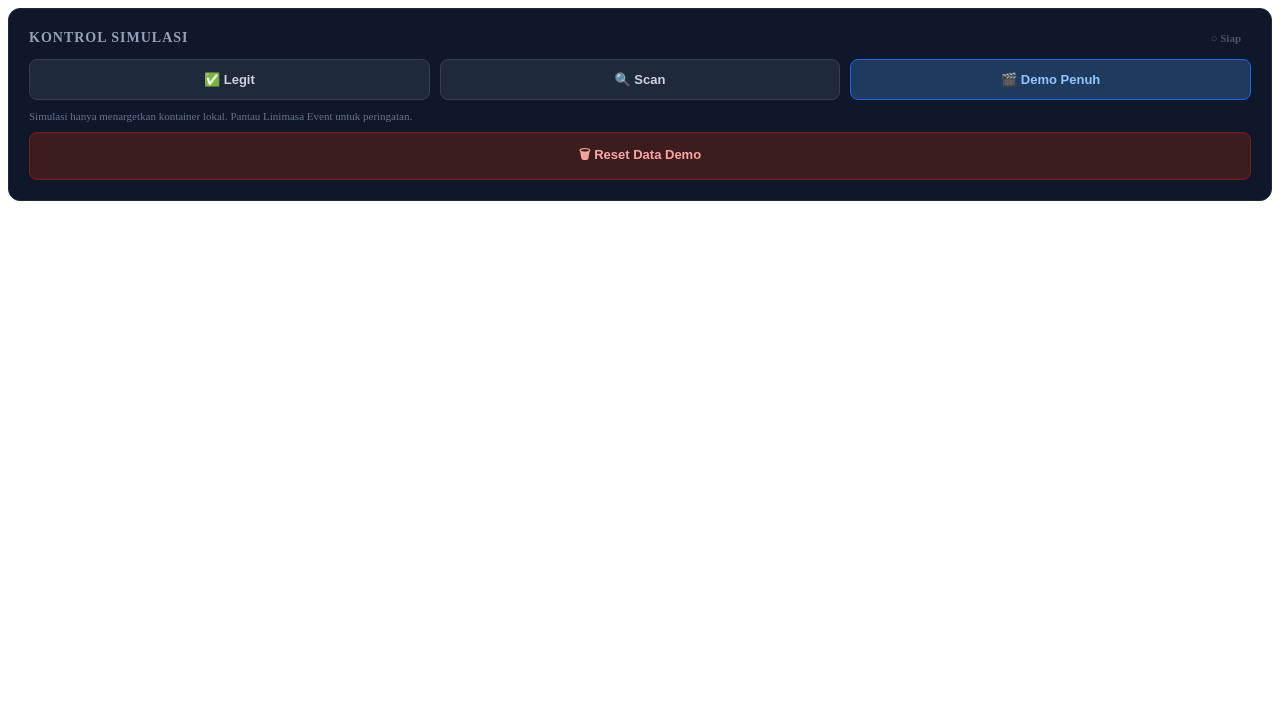
Test: SimPanel › does NOT call api.runSim when confirmation is cancelled
Click the button "🎬 Demo Penuh" at (1051, 80), box top-left (850, 59), bottom-right (1251, 100)
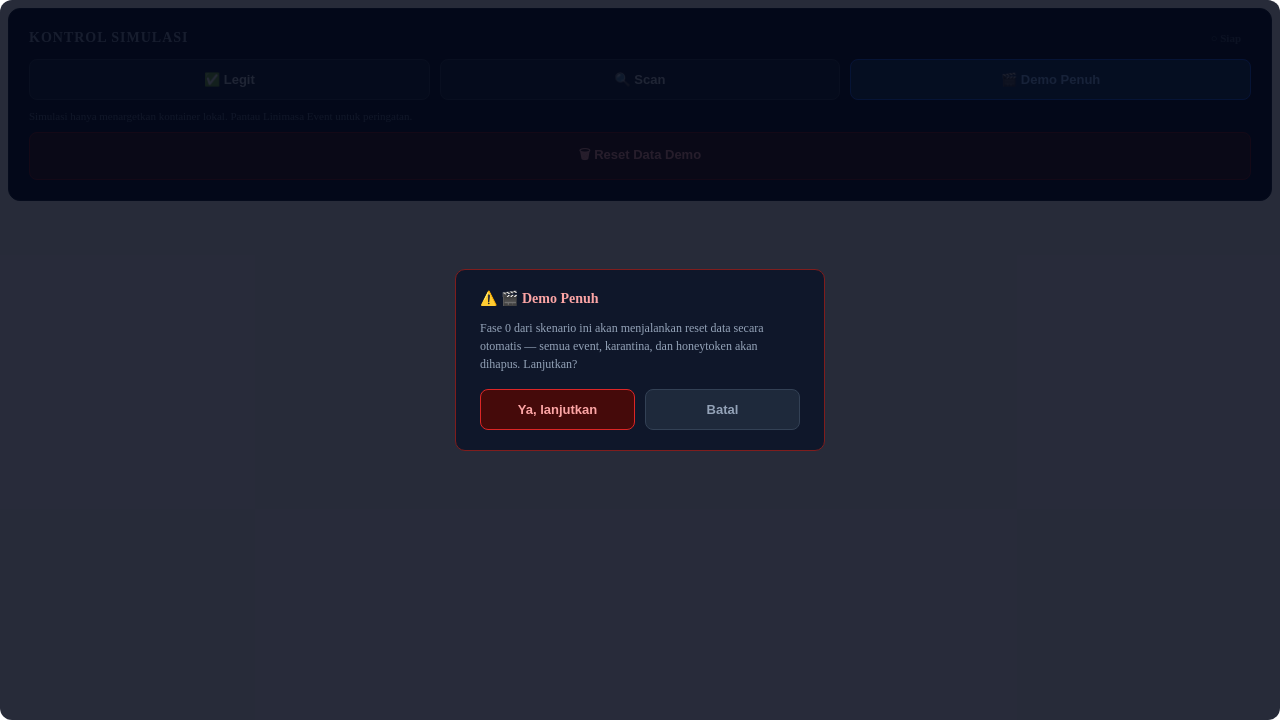
Click the button "Batal" at (722, 410), box top-left (645, 389), bottom-right (800, 430)
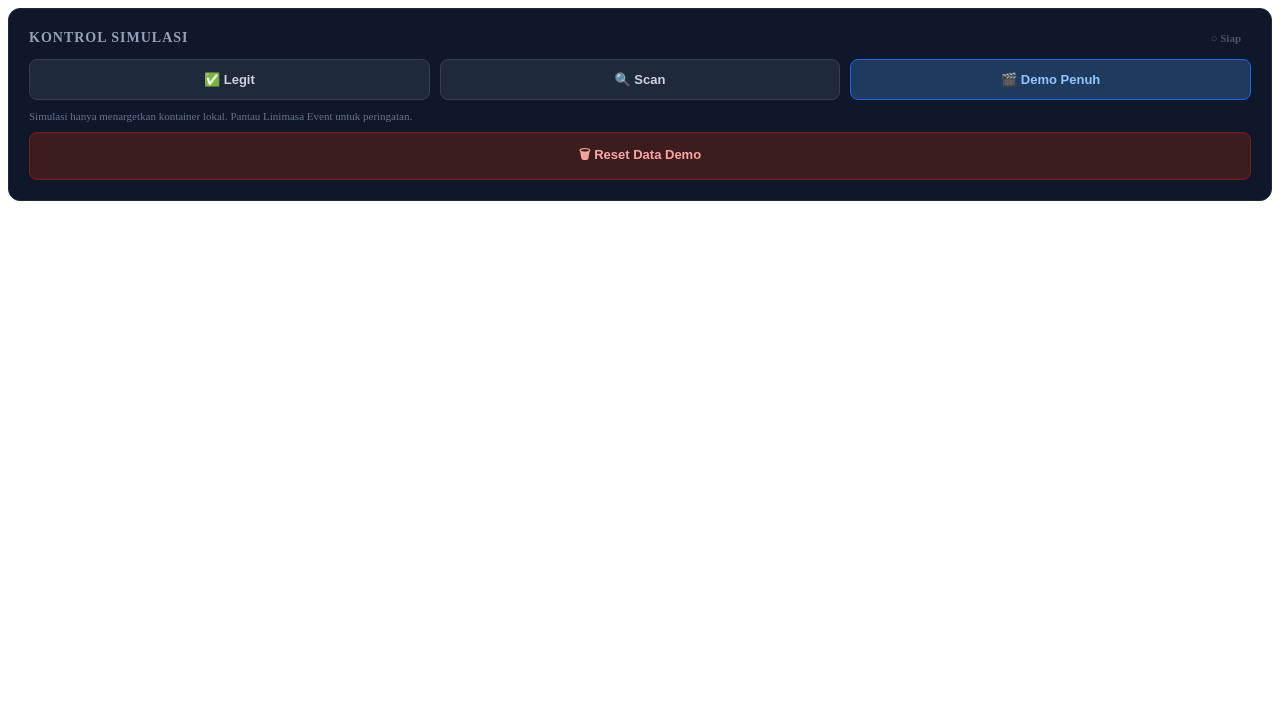
Expected: the button "Ya, lanjutkan" is gone
